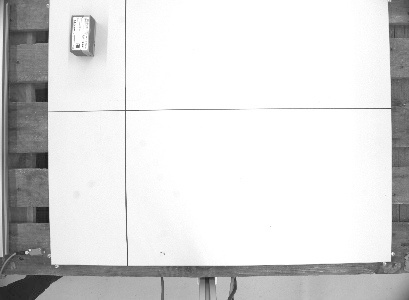b3: (67, 13, 98, 58)
